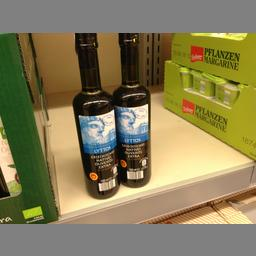oil: (70, 32, 119, 199), (111, 32, 152, 186)
